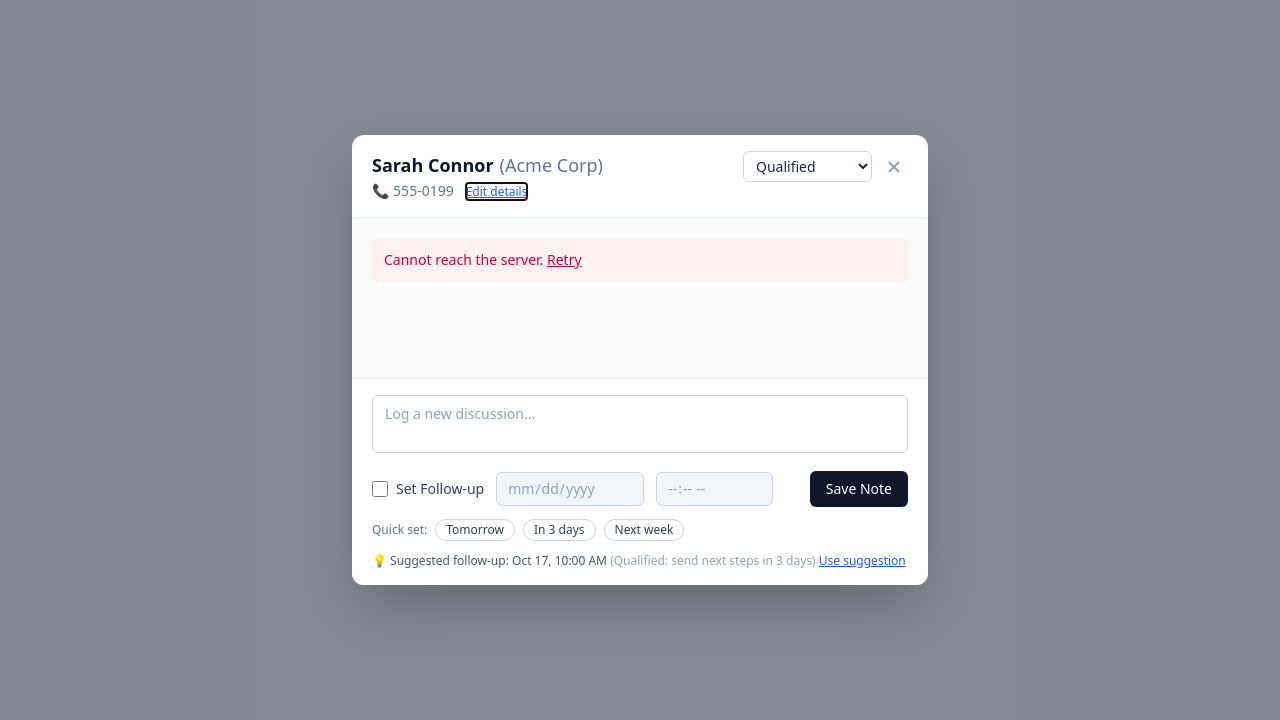
timeline › shows an error with a retry when history fails to load
Expected: the text "Cannot reach the server. Retry" is shown, [372,238,908,282]
Click the button "Retry". click: (564, 260)
box: [547,250,582,270]
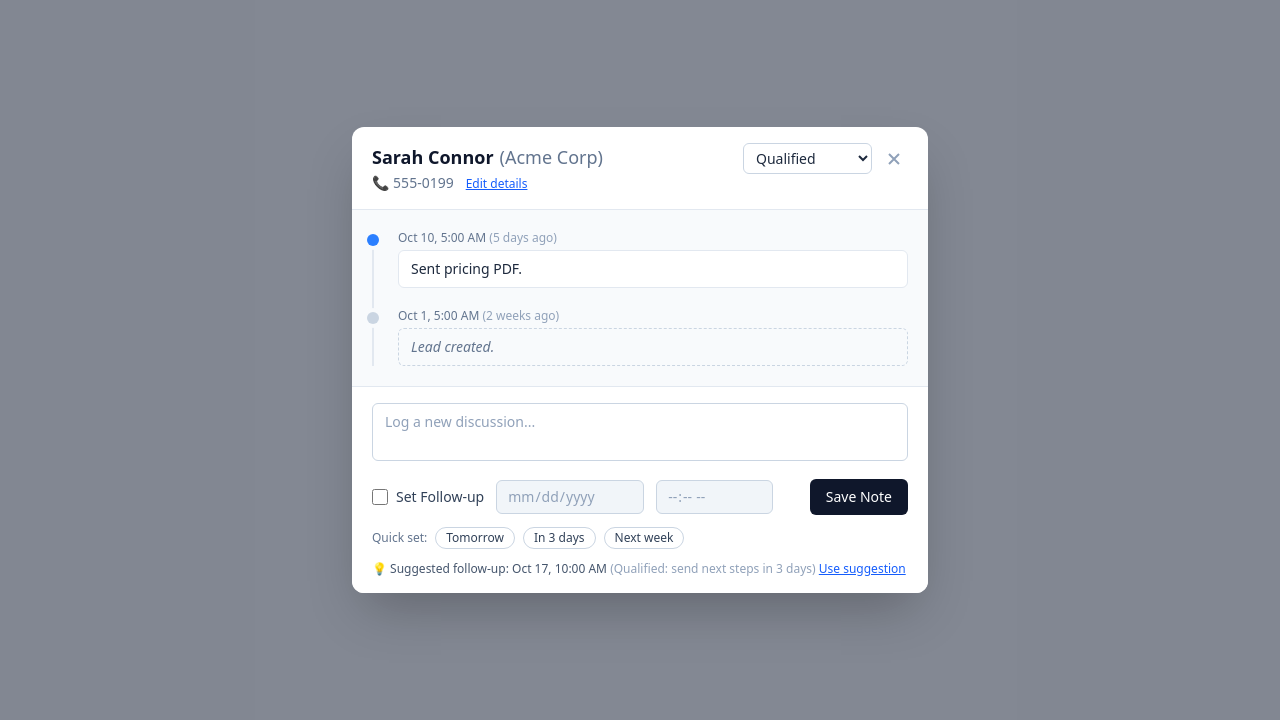
Result: the text "Lead created." is shown at [411,337,494,356]
